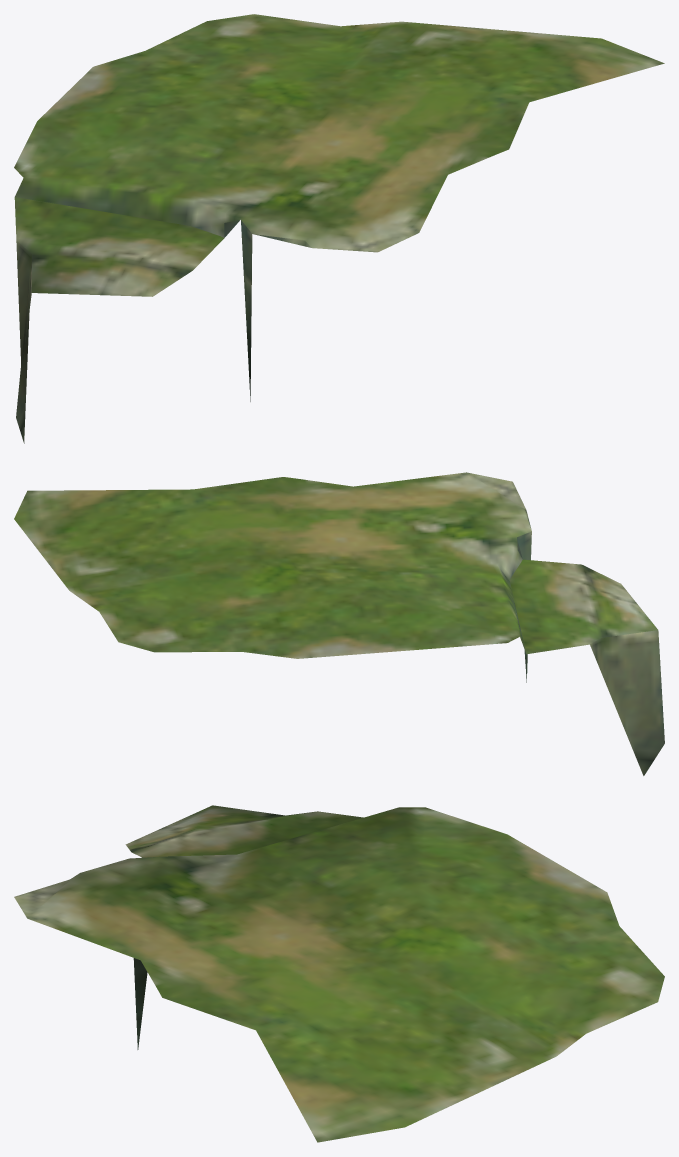
Rendered from S_Rock_Green054_H12.FBX.
3 renders of one model, top to bottom at view 1: azimuth 30°, elevation 25°; view 2: azimuth 150°, elevation 25°; view 3: azimuth 270°, elevation 25°, orthographic. The views are drawn at different scales.
Parts seen in each view (by area): view 1: S_Rock_Green054_H12; view 2: S_Rock_Green054_H12; view 3: S_Rock_Green054_H12.
Part boxes in pixels (x1,y1,x2,y2): S_Rock_Green054_H12: (14, 14, 664, 443); S_Rock_Green054_H12: (14, 472, 664, 775); S_Rock_Green054_H12: (14, 805, 664, 1142).
Size of the model in its own units: 849 by 250 by 622.
